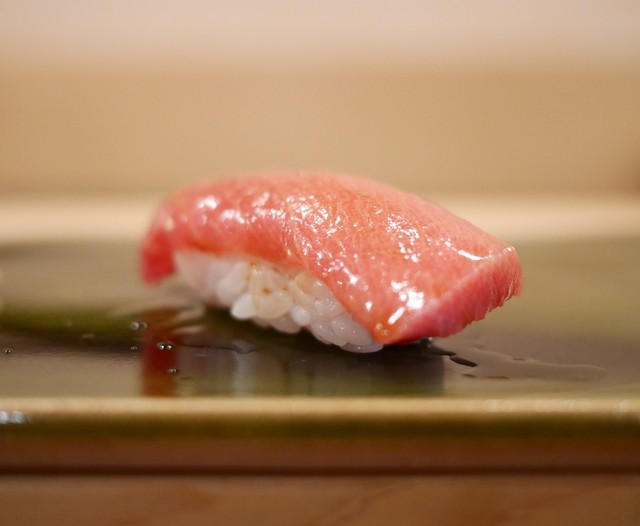medium_fatty_tuna: (150, 173, 526, 358)
